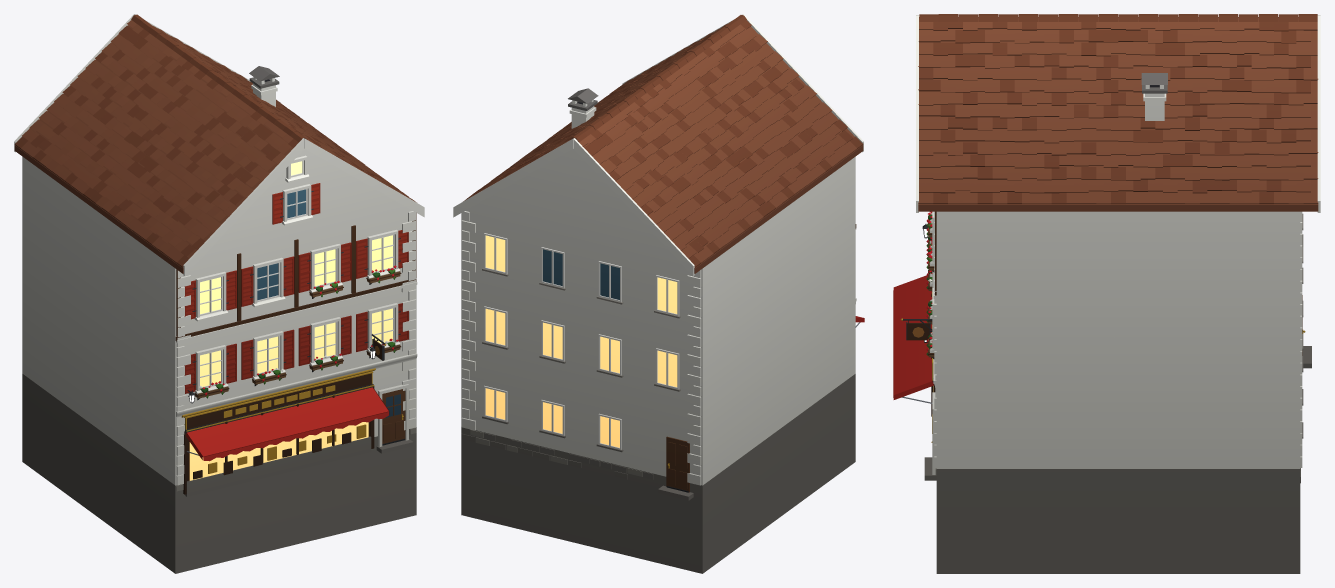
Rendered from TownHouse_I.fbx.
3 views of the same model, side by side, from view 1: azimuth 30°, elevation 25°; view 2: azimuth 150°, elevation 25°; view 3: azimuth 270°, elevation 25° (orthographic). The views are drawn at different scales.
Parts seen in each view (by area): view 1: TownHouse_I_LOD0; view 2: TownHouse_I_LOD0; view 3: TownHouse_I_LOD0.
Boxes of the visible parts, bbox=[...] form: TownHouse_I_LOD0: bbox=[14, 14, 424, 573]; TownHouse_I_LOD0: bbox=[453, 14, 864, 573]; TownHouse_I_LOD0: bbox=[893, 14, 1320, 573].
Size of what is drawn, in the model's own units: 10 by 16.33 by 12.93.
1 material, 1 textured.
